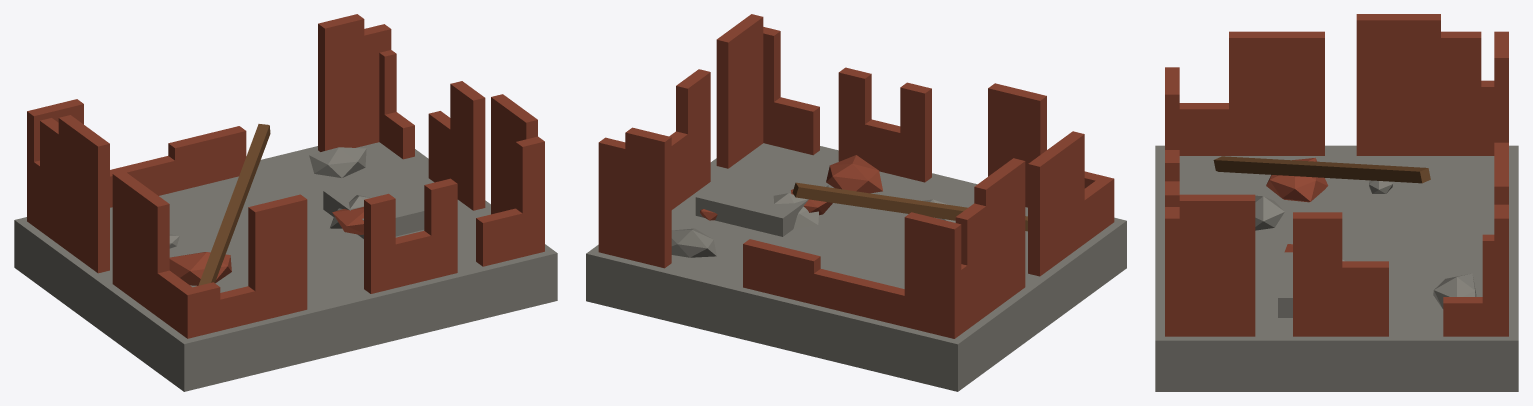
File: ruin.glb
The picture shows the model from 3 angles, left to right: view 1: azimuth 30°, elevation 25°; view 2: azimuth 150°, elevation 25°; view 3: azimuth 270°, elevation 25°; orthographic projection. The views are drawn at different scales.
Visible parts, largest first — view 1: ruin; view 2: ruin; view 3: ruin.
Part boxes in pixels (<box>): ruin: <box>14,14,557,391</box>; ruin: <box>586,14,1126,391</box>; ruin: <box>1155,14,1518,391</box>.
Size of the model in its own units: 9.4 by 4.2 by 7.4.
